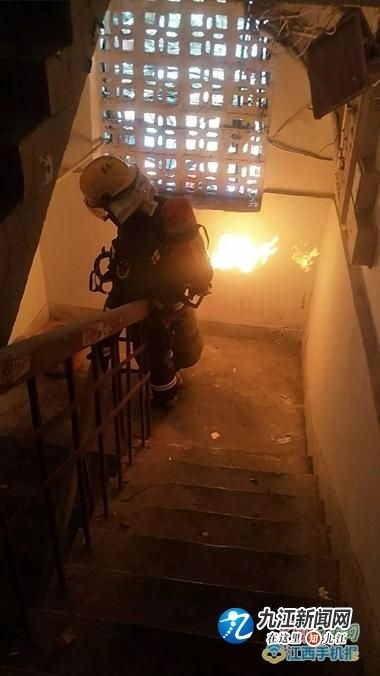fire: (209, 226, 281, 272)
